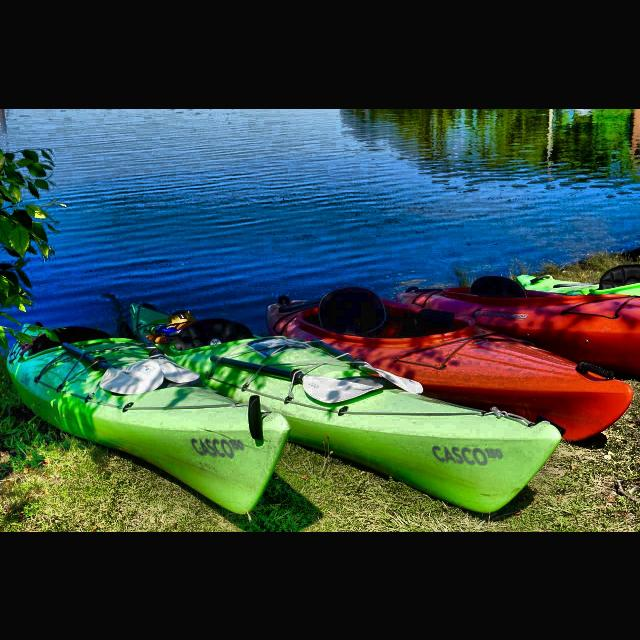kayak: (128, 300, 564, 516), (6, 322, 294, 518), (265, 293, 635, 443), (394, 275, 640, 381), (516, 262, 640, 306)
